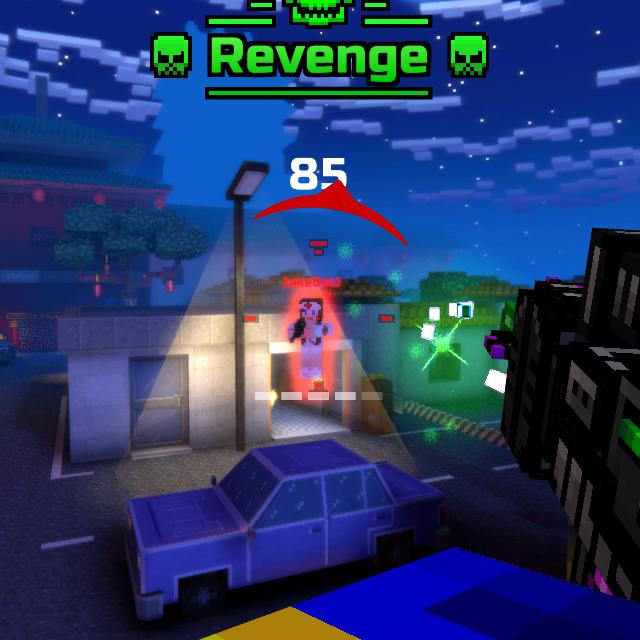Enemy: (287, 298, 333, 378)
